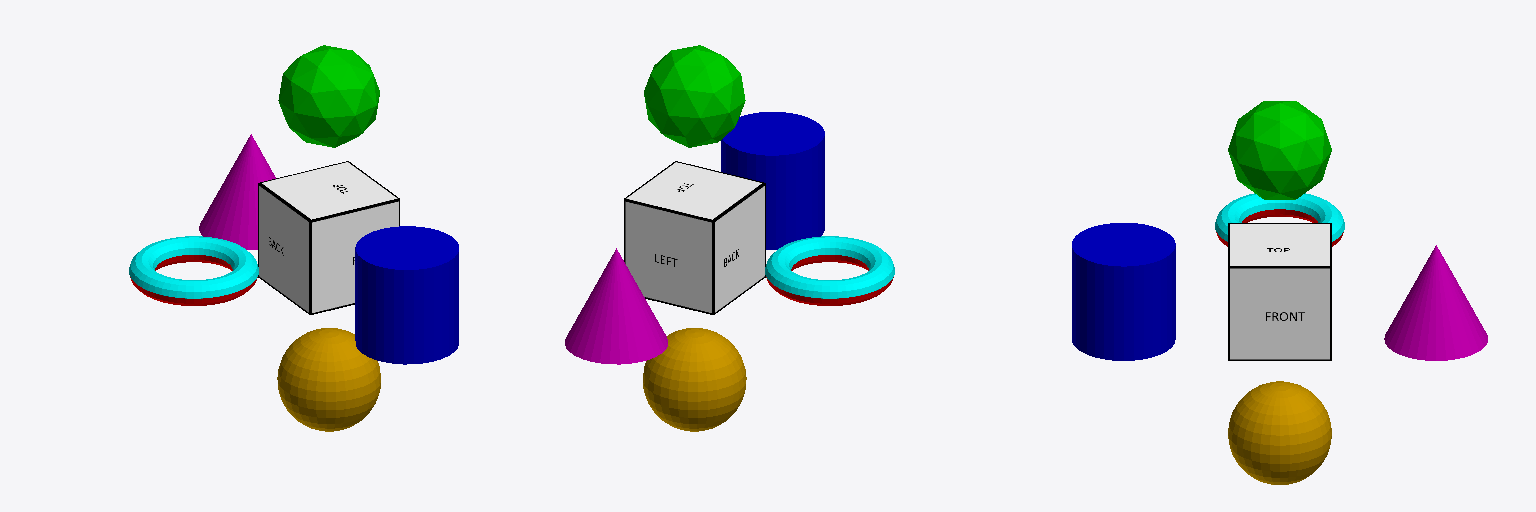
The picture shows the model from 3 angles: view 1: azimuth 30°, elevation 25°; view 2: azimuth 150°, elevation 25°; view 3: azimuth 270°, elevation 25°; orthographic projection.
Visible parts, largest first — view 1: Shapes; view 2: Shapes; view 3: Shapes.
Part boxes in pixels (x1,y1,x2,y2): Shapes: (129, 45, 458, 431); Shapes: (565, 45, 894, 431); Shapes: (1072, 101, 1487, 484).
Size of the model in its own units: 5.25 by 8 by 8.
Materials: 6 (2 with a texture image).